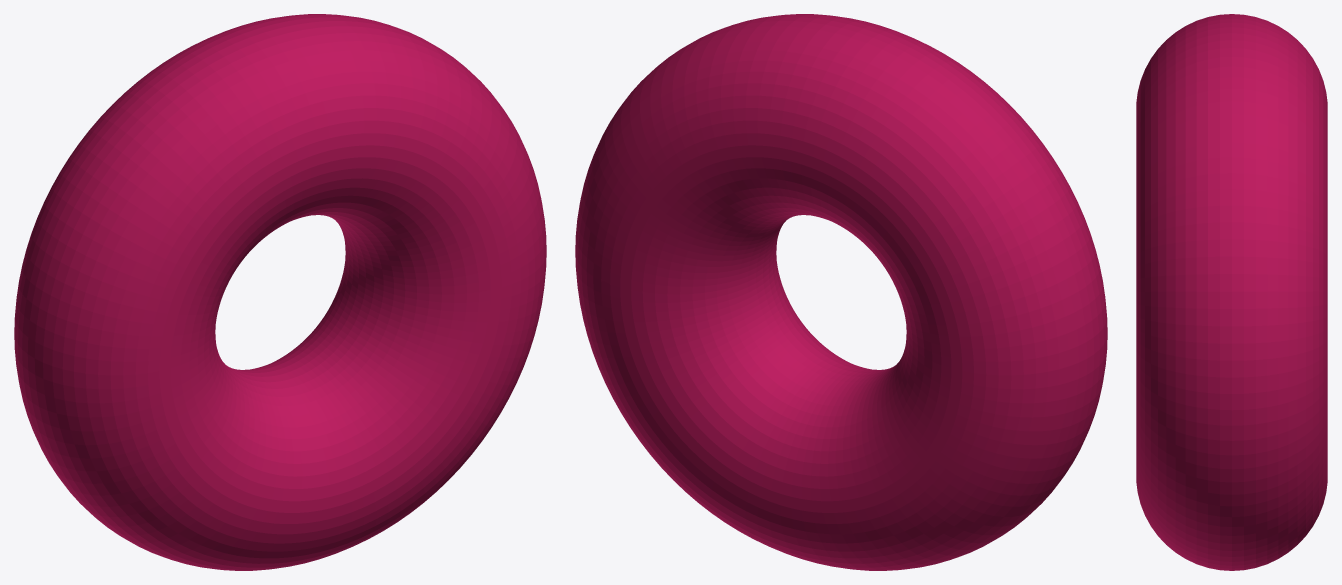
3 renders of one model, left to right at view 1: azimuth 30°, elevation 25°; view 2: azimuth 150°, elevation 25°; view 3: azimuth 270°, elevation 25°, orthographic. The views are drawn at different scales.
Parts seen in each view (by area): view 1: world; view 2: world; view 3: world.
Boxes of the visible parts, <box> form: world: <box>14,14,546,570</box>; world: <box>575,14,1107,570</box>; world: <box>1136,14,1327,570</box>.
Bounding box in the file's own units: 27.47 × 27.47 × 9.45.
